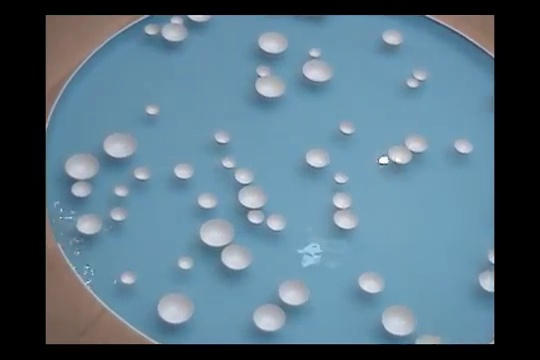bowl: (157, 292, 194, 326), (381, 304, 416, 335), (252, 303, 287, 333), (199, 218, 235, 246), (103, 131, 138, 159), (65, 153, 101, 180), (279, 279, 311, 307), (221, 244, 253, 270), (255, 76, 288, 100), (302, 59, 333, 84), (257, 31, 289, 55), (237, 185, 268, 209), (358, 271, 385, 294), (76, 213, 103, 234), (161, 22, 189, 42), (388, 144, 413, 166), (304, 148, 330, 169), (334, 209, 360, 230), (404, 135, 429, 154), (196, 191, 220, 209), (382, 29, 405, 47), (173, 162, 195, 180), (267, 213, 287, 232), (478, 269, 494, 292), (235, 167, 255, 185), (71, 181, 93, 197), (333, 192, 353, 209), (453, 138, 474, 154), (214, 129, 232, 146), (247, 209, 265, 225), (337, 121, 356, 136), (177, 255, 194, 271), (133, 167, 151, 182), (187, 14, 213, 24), (110, 207, 128, 221), (415, 334, 440, 344), (120, 271, 137, 285), (144, 22, 160, 36), (334, 172, 350, 185), (255, 65, 273, 76), (222, 156, 237, 169), (114, 185, 130, 197), (413, 68, 429, 80), (145, 104, 160, 116), (406, 77, 421, 89), (308, 47, 323, 58), (170, 14, 185, 24), (486, 246, 493, 264)
